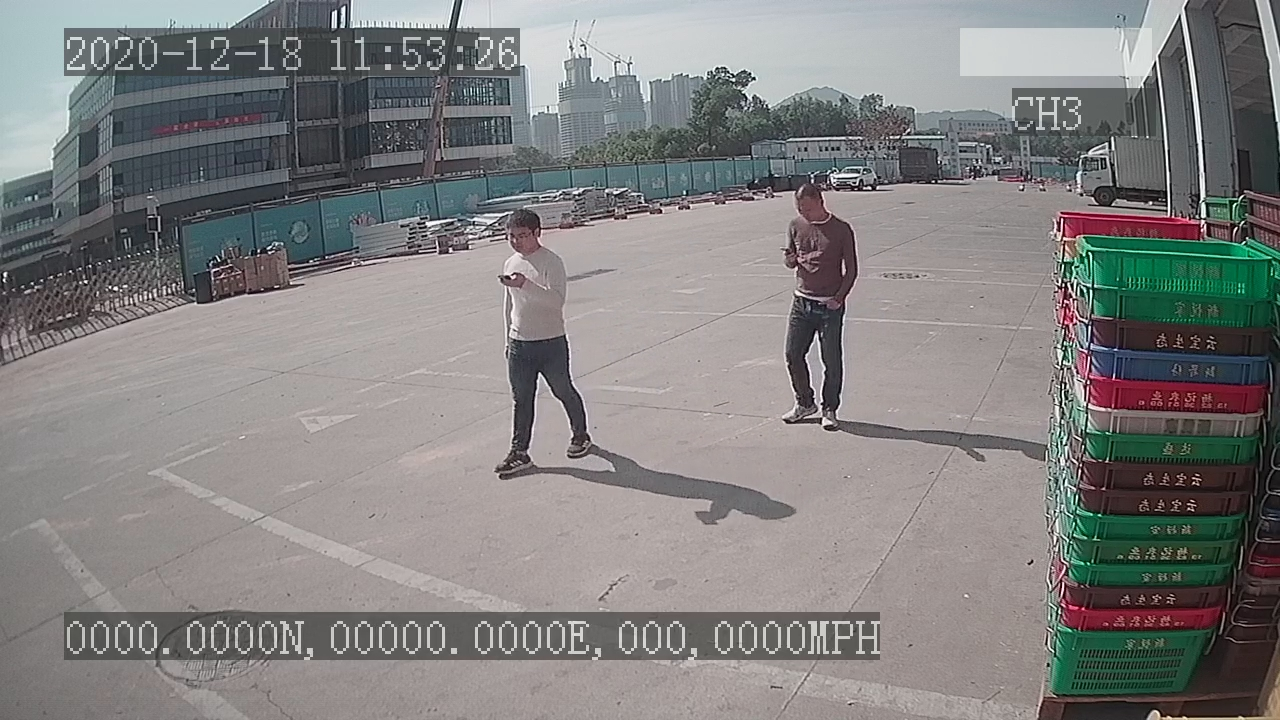person: (477, 204, 606, 485), (767, 177, 863, 429)
